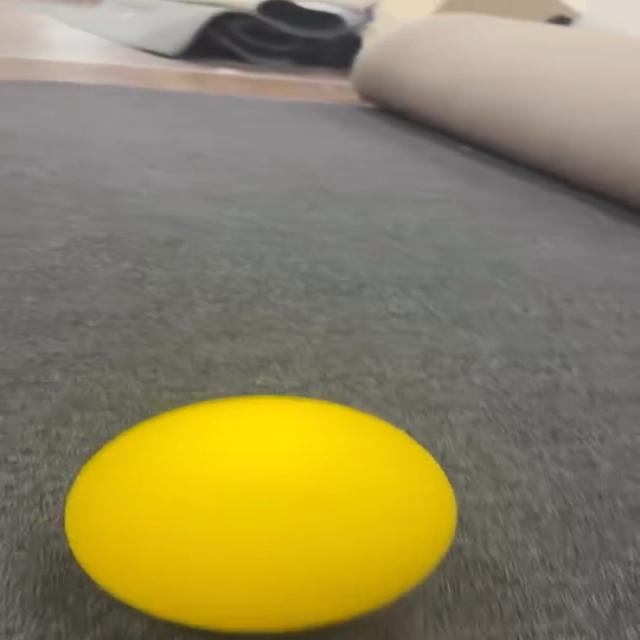Fuels: (63, 394, 456, 630)
